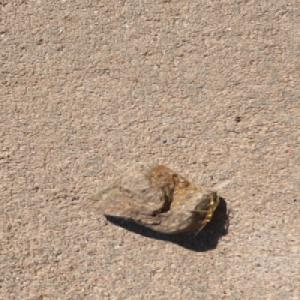Rock: (78, 161, 220, 235)
